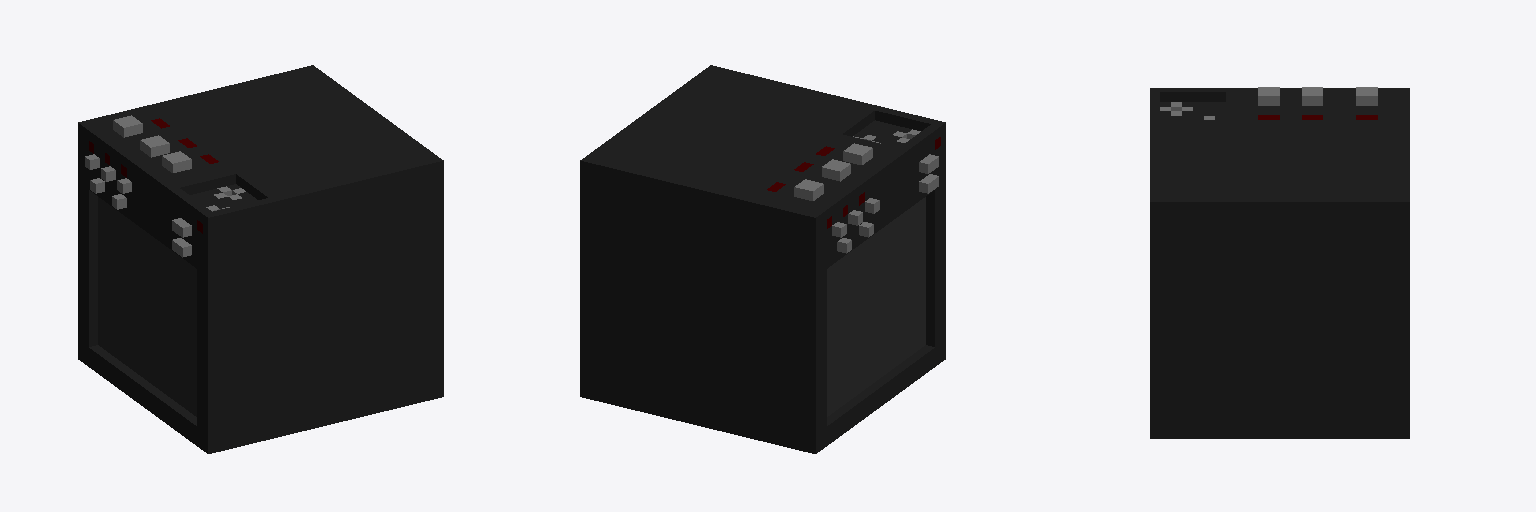
The picture shows the model from 3 angles: view 1: azimuth 30°, elevation 25°; view 2: azimuth 150°, elevation 25°; view 3: azimuth 270°, elevation 25°; orthographic projection.
Visible parts, largest first — view 1: amplifier; view 2: amplifier; view 3: amplifier.
Part boxes in pixels (x1,y1,x2,y2): amplifier: (78,65,443,453); amplifier: (580,65,945,453); amplifier: (1150,87,1409,438).
Size of the model in its own units: 26 by 25 by 24.
1 materials, 1 textured.